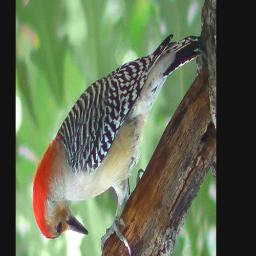Woodpecker: (29, 26, 205, 256)
